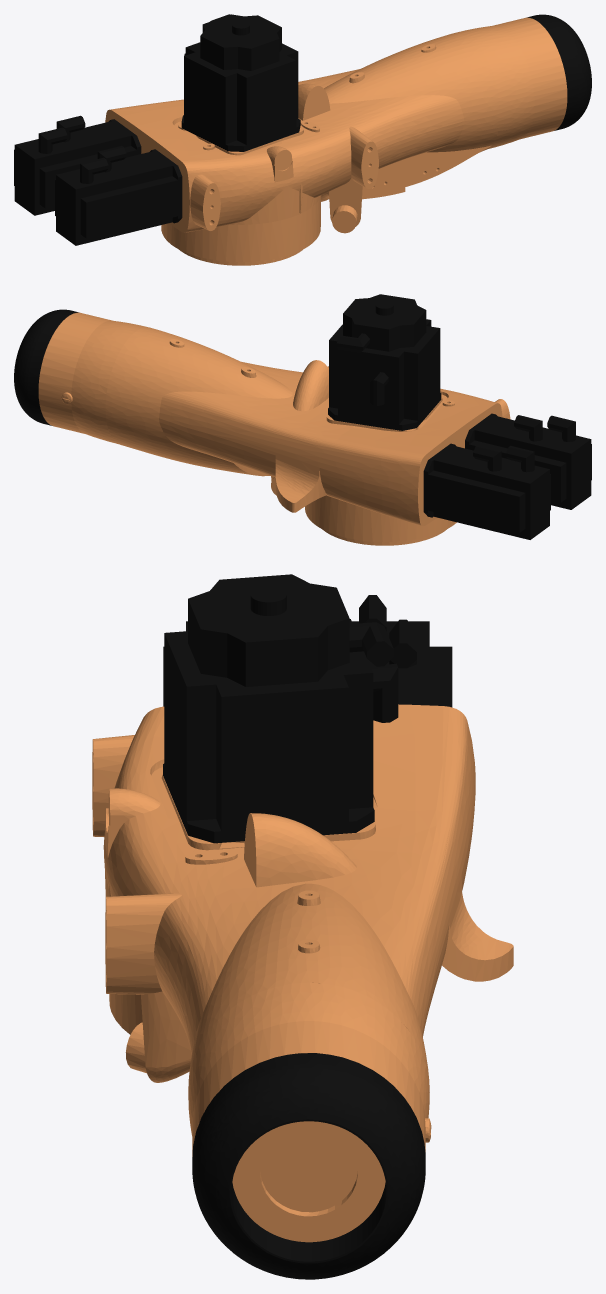
3 renders of one model, top to bottom at view 1: azimuth 30°, elevation 25°; view 2: azimuth 150°, elevation 25°; view 3: azimuth 270°, elevation 25°, orthographic. The views are drawn at different scales.
Visible parts, largest first — view 1: /Link_3/Link_3-mesh/0, /Link_3_Motor4/Link_3_Motor4-mesh/0, /Link_3_Motor1/Link_3_Motor1-mesh/0, /Link_3_Motor2/Link_3_Motor2-mesh/0, /Link_3_Motor3/Link_3_Motor3-mesh/0; view 2: /Link_3/Link_3-mesh/0, /Link_3_Motor4/Link_3_Motor4-mesh/0, /Link_3_Motor2/Link_3_Motor2-mesh/0, /Link_3_Motor1/Link_3_Motor1-mesh/0, /Link_3_Motor3/Link_3_Motor3-mesh/0; view 3: /Link_3/Link_3-mesh/0, /Link_3_Motor4/Link_3_Motor4-mesh/0, /Link_3_Motor3/Link_3_Motor3-mesh/0, /Link_3_Motor2/Link_3_Motor2-mesh/0.
Boxes of the visible parts, <box> form: /Link_3/Link_3-mesh/0: <box>105,17,567,265</box>; /Link_3_Motor4/Link_3_Motor4-mesh/0: <box>181,14,300,151</box>; /Link_3_Motor1/Link_3_Motor1-mesh/0: <box>55,146,182,245</box>; /Link_3_Motor2/Link_3_Motor2-mesh/0: <box>14,115,141,215</box>; /Link_3_Motor3/Link_3_Motor3-mesh/0: <box>527,14,591,130</box>; /Link_3/Link_3-mesh/0: <box>38,312,510,545</box>; /Link_3_Motor4/Link_3_Motor4-mesh/0: <box>328,294,441,430</box>; /Link_3_Motor2/Link_3_Motor2-mesh/0: <box>423,443,550,539</box>; /Link_3_Motor1/Link_3_Motor1-mesh/0: <box>465,413,591,509</box>; /Link_3_Motor3/Link_3_Motor3-mesh/0: <box>14,309,78,425</box>; /Link_3/Link_3-mesh/0: <box>92,704,513,1242</box>; /Link_3_Motor4/Link_3_Motor4-mesh/0: <box>163,574,398,843</box>; /Link_3_Motor3/Link_3_Motor3-mesh/0: <box>192,1053,425,1279</box>; /Link_3_Motor2/Link_3_Motor2-mesh/0: <box>352,595,452,707</box>.
Size of the model in its own units: 1.24 by 0.4755 by 0.4294.
